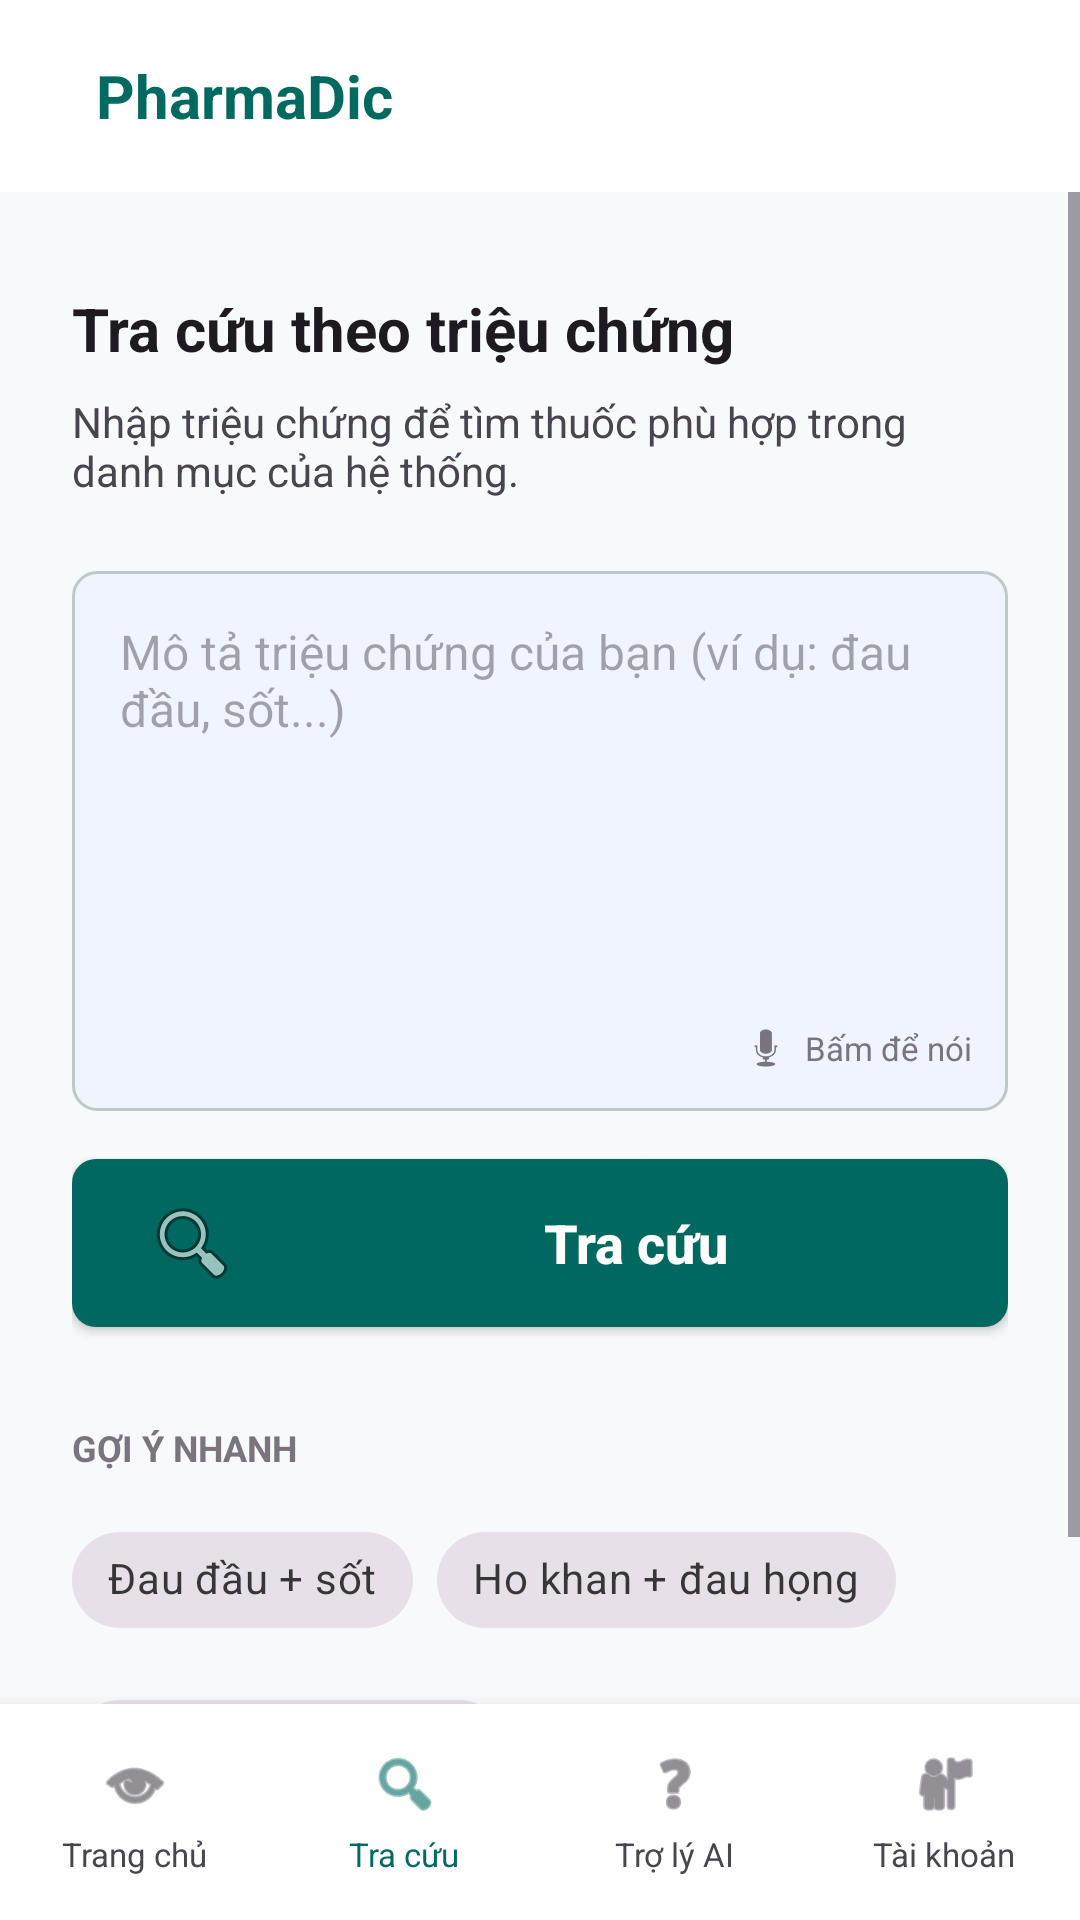

Icons on this 1080px x 1920px Android screen, each with its box as bbox=(x1, y1, x2, y2):
help: bbox=(659, 1758, 691, 1810)
speak now: bbox=(754, 1029, 778, 1067)
view: bbox=(106, 1767, 164, 1804)
